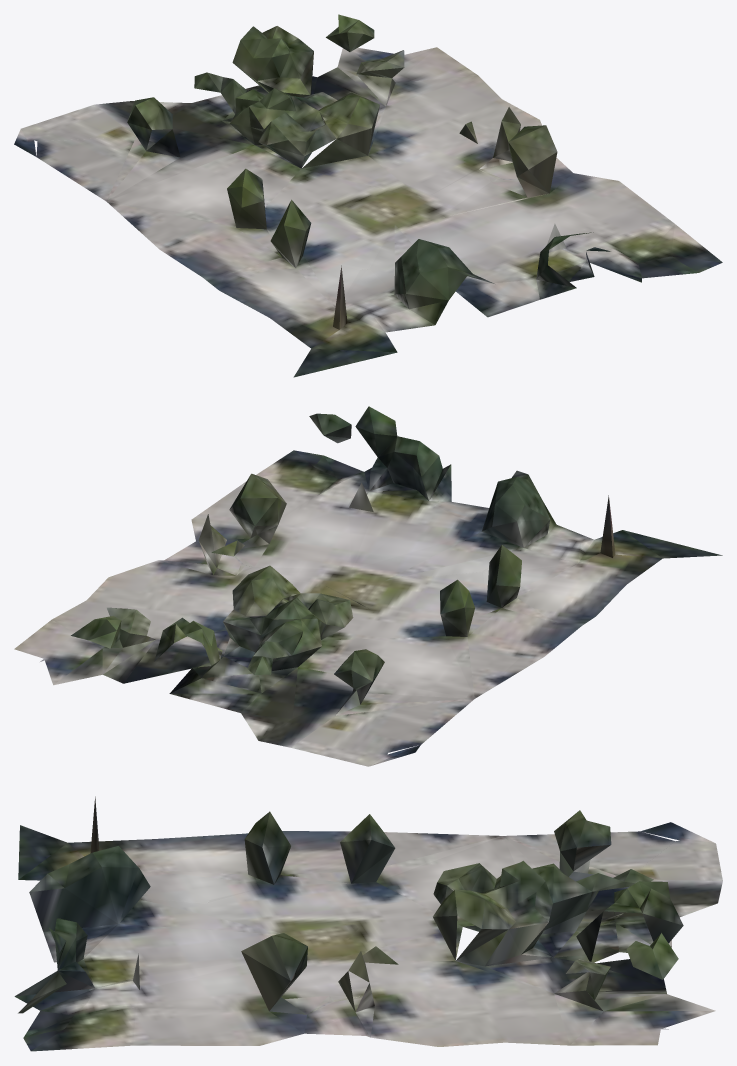
Rendered from Tile_+006_+001_L17_00.glb.
3 renders of one model, top to bottom at view 1: azimuth 30°, elevation 25°; view 2: azimuth 150°, elevation 25°; view 3: azimuth 270°, elevation 25°, orthographic. The views are drawn at different scales.
Bounding box in the file's own units: 46.82 × 8.01 × 59.93.
Materials: 1 (1 with a texture image).
